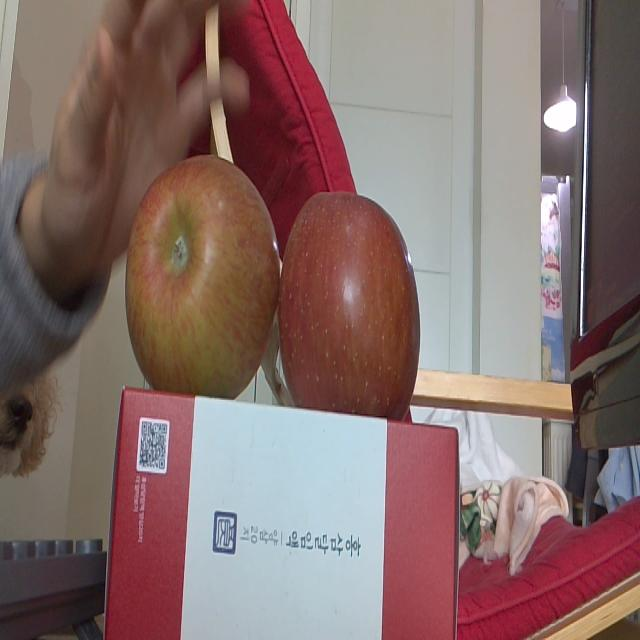apple: (126, 153, 279, 399), (279, 182, 426, 422)
